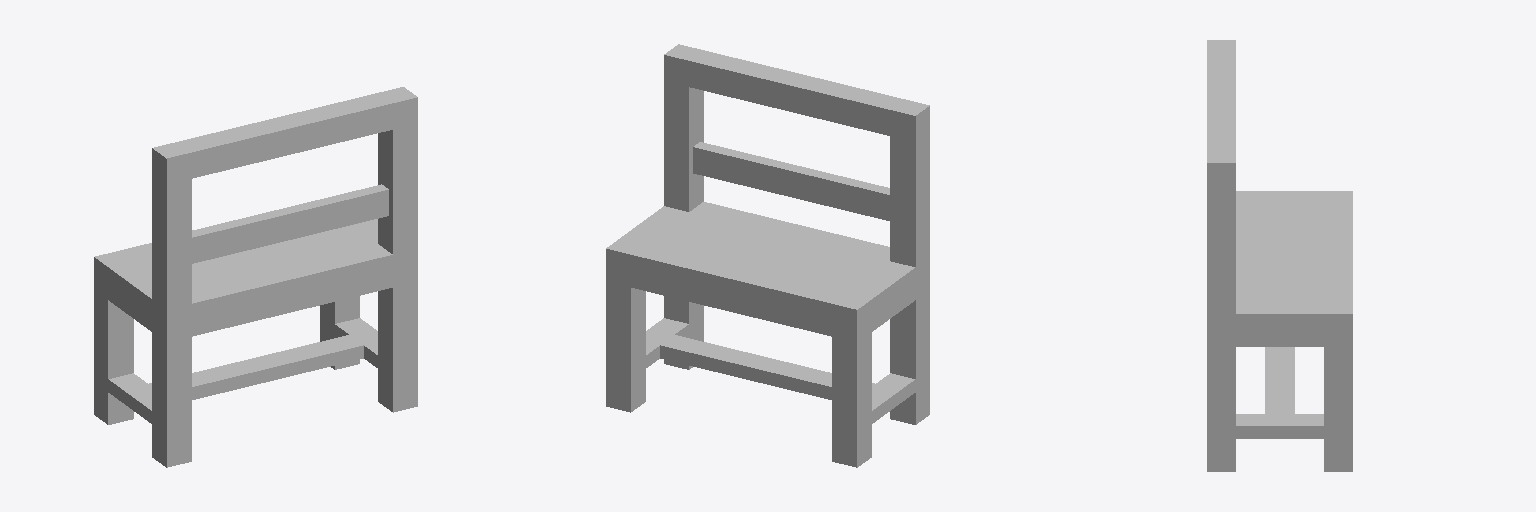
The model's file is bench.obj.
3 renders of one model, left to right at view 1: azimuth 30°, elevation 25°; view 2: azimuth 150°, elevation 25°; view 3: azimuth 270°, elevation 25°, orthographic.
Parts seen in each view (by area): view 1: bench; view 2: bench; view 3: bench.
Boxes of the visible parts, x1=… form: bench: x1=94, y1=87, x2=417, y2=467; bench: x1=606, y1=44, x2=929, y2=467; bench: x1=1207, y1=40, x2=1352, y2=471.
Size of the model in its own units: 4 by 4.7 by 2.